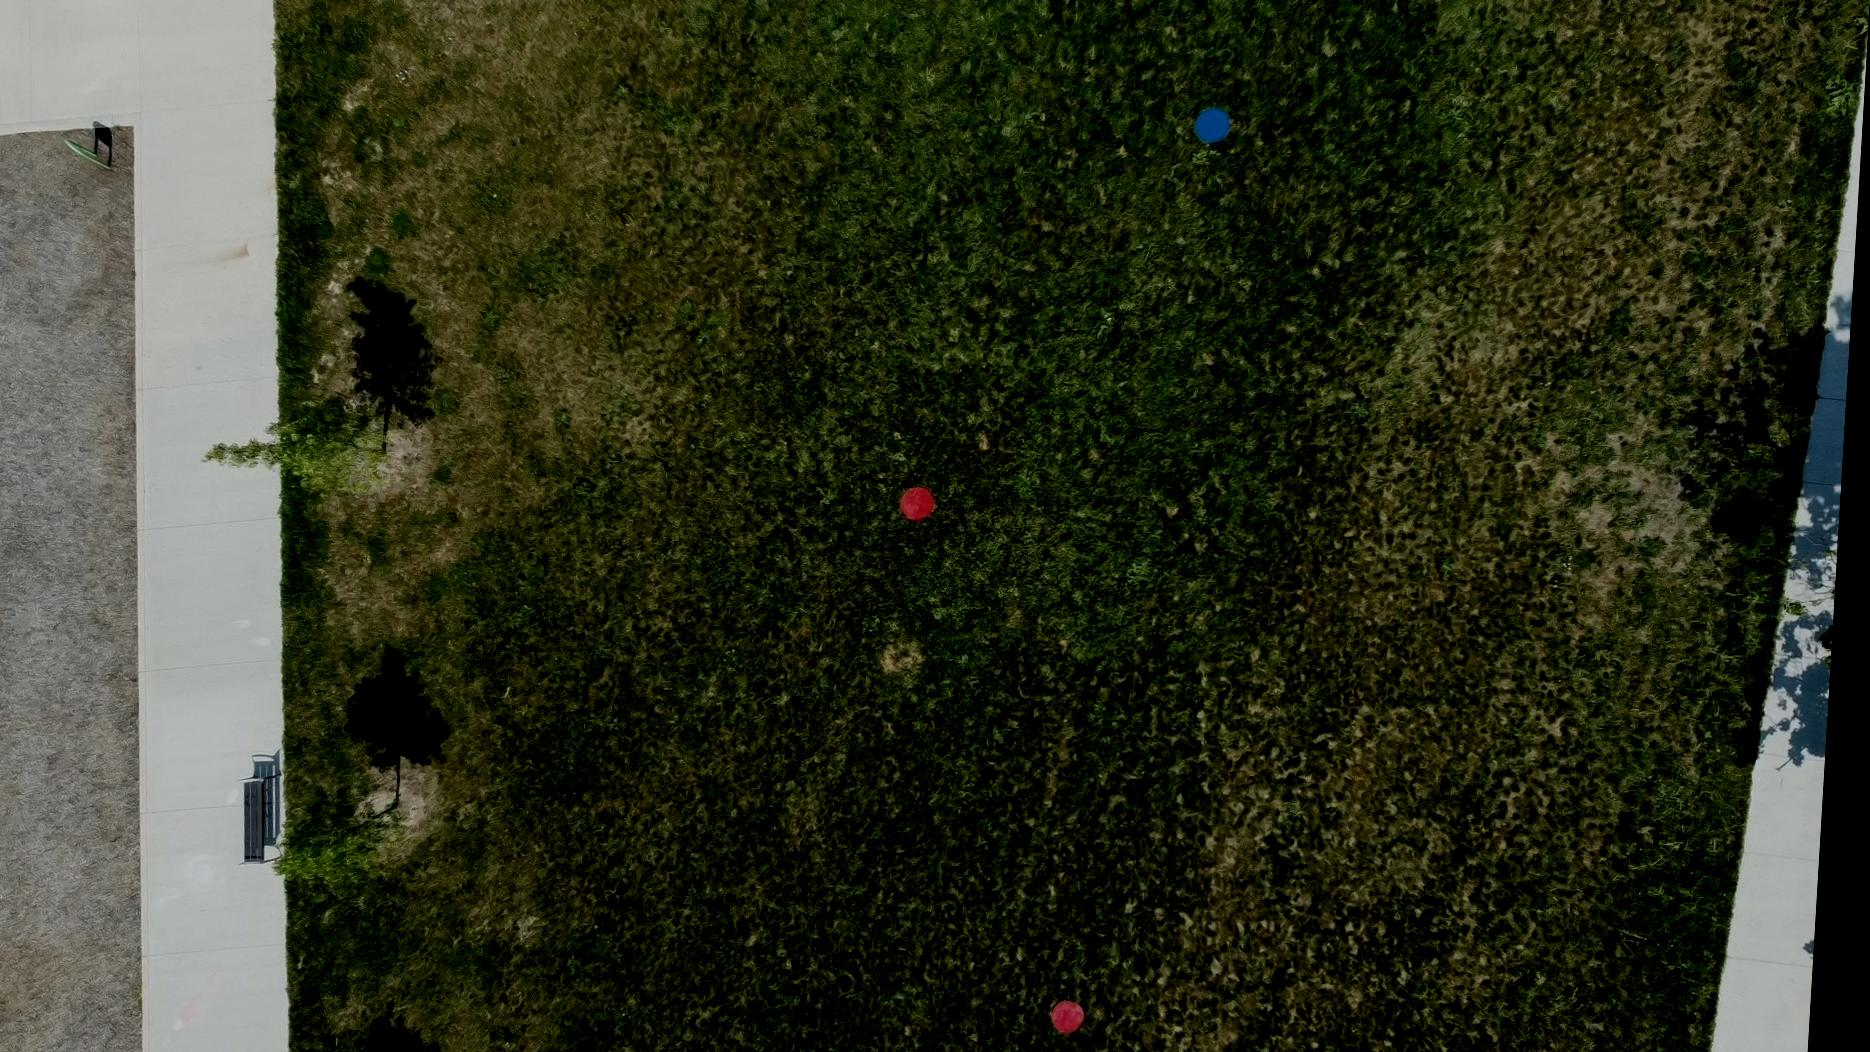Blue: (1193, 105, 1236, 145)
Red: (903, 486, 945, 523), (1061, 998, 1101, 1035)
